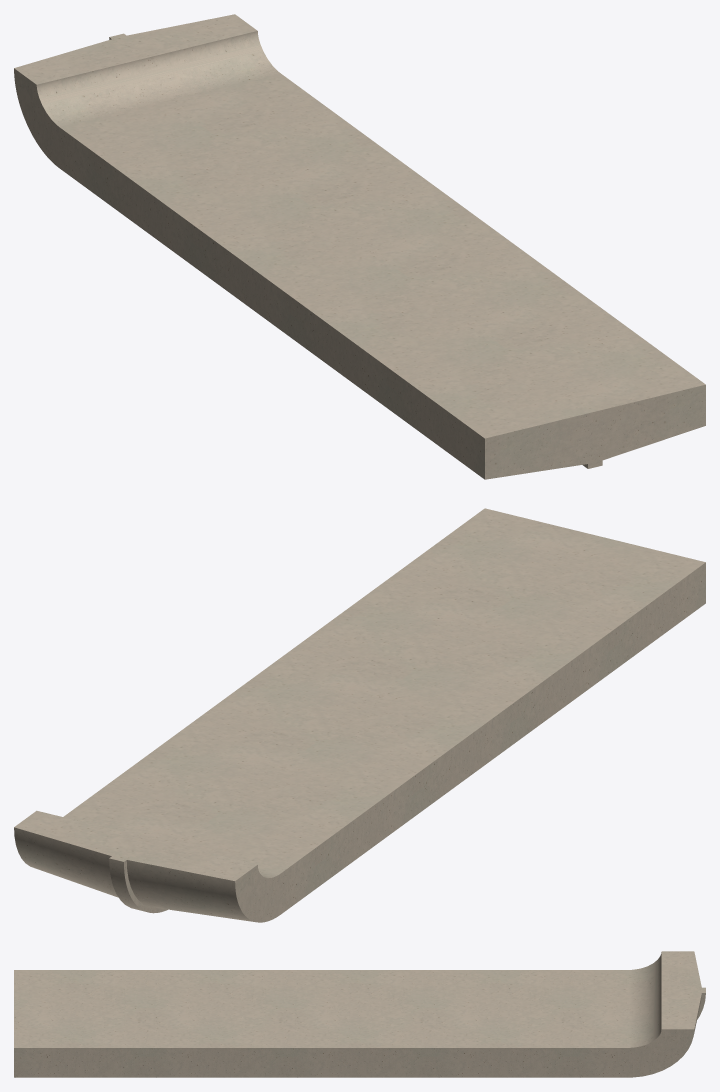
3 views of the same model, one above another, from view 1: azimuth 30°, elevation 25°; view 2: azimuth 150°, elevation 25°; view 3: azimuth 270°, elevation 25° (orthographic). The views are drawn at different scales.
Parts seen in each view (by area): view 1: B2.SLDPRT; view 2: B2.SLDPRT; view 3: B2.SLDPRT.
Part boxes in pixels (x1,y1,x2,y2): B2.SLDPRT: (14, 14, 705, 479); B2.SLDPRT: (14, 508, 705, 922); B2.SLDPRT: (14, 951, 705, 1077).
Size of the model in its own units: 0.225 by 0.0792 by 0.8442.
1 material, 1 textured.
